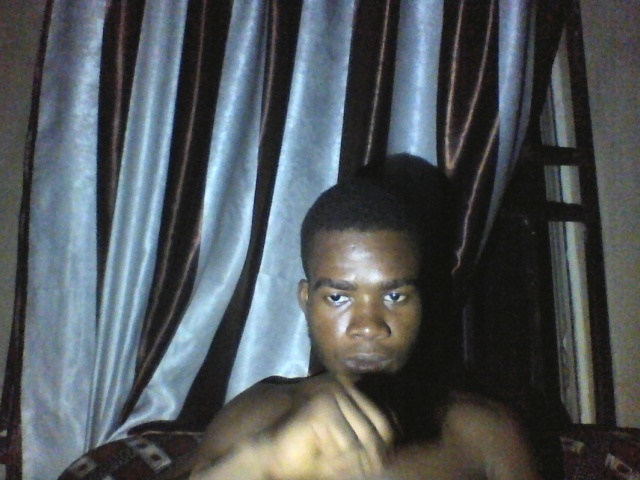yes: (242, 373, 407, 474)
